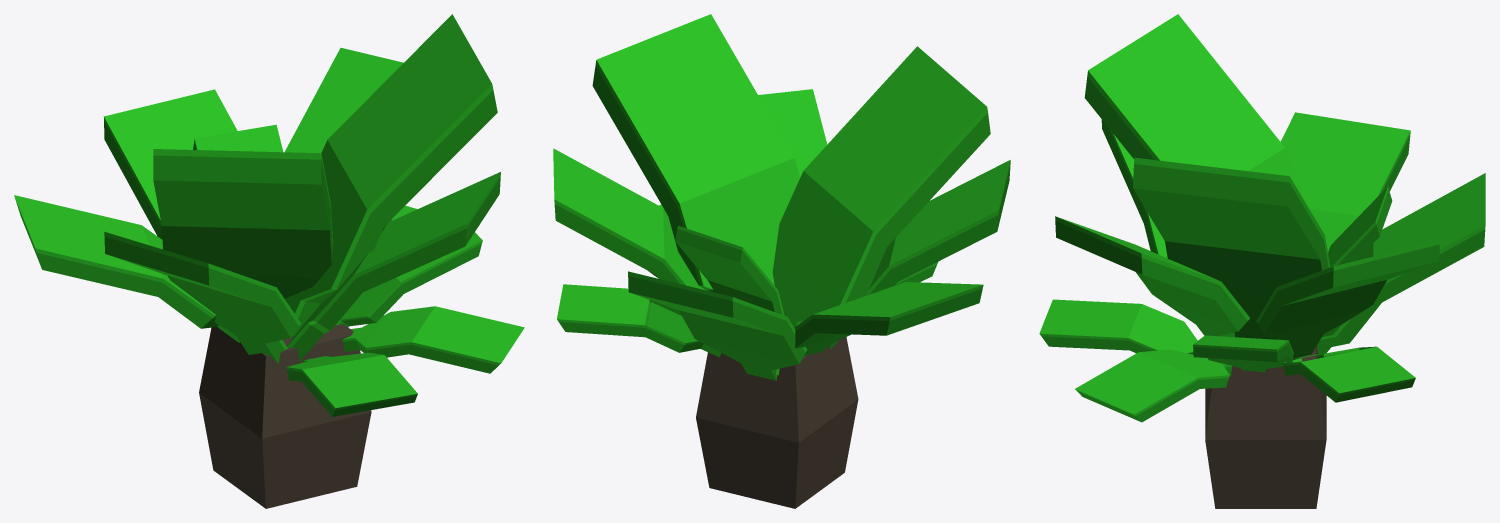
Rendered from palmtree1(small).fbx.
3 views of the same model, side by side, from view 1: azimuth 30°, elevation 25°; view 2: azimuth 150°, elevation 25°; view 3: azimuth 270°, elevation 25° (orthographic). The views are drawn at different scales.
Visible parts, largest first — view 1: palmtree1(small); view 2: palmtree1(small); view 3: palmtree1(small).
Boxes of the visible parts, x1,y1,x2,y2 form: palmtree1(small): [14, 14, 524, 508]; palmtree1(small): [553, 14, 1010, 508]; palmtree1(small): [1039, 14, 1485, 508].
Size of the model in its own units: 449 by 404 by 413.
Materials: 1 (1 with a texture image).
